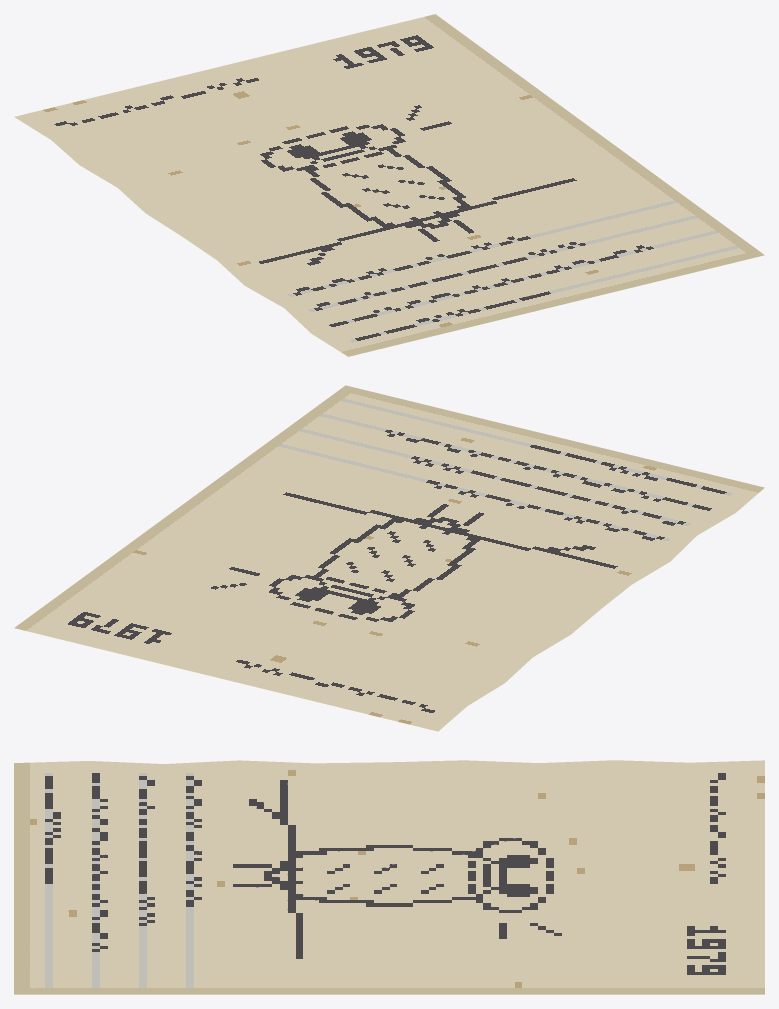
File: m_page_frogmouth.glb
The picture shows the model from 3 angles, top to bottom: view 1: azimuth 30°, elevation 25°; view 2: azimuth 150°, elevation 25°; view 3: azimuth 270°, elevation 25°; orthographic projection. The views are drawn at different scales.
Parts seen in each view (by area): view 1: Page_frogmouth; view 2: Page_frogmouth; view 3: Page_frogmouth.
Boxes of the visible parts, x1,y1,x2,y2 form: Page_frogmouth: [14, 14, 764, 356]; Page_frogmouth: [14, 385, 764, 731]; Page_frogmouth: [14, 760, 764, 994].
Size of the model in its own units: 0.1479 by 0 by 0.2.
1 material, 1 textured.
